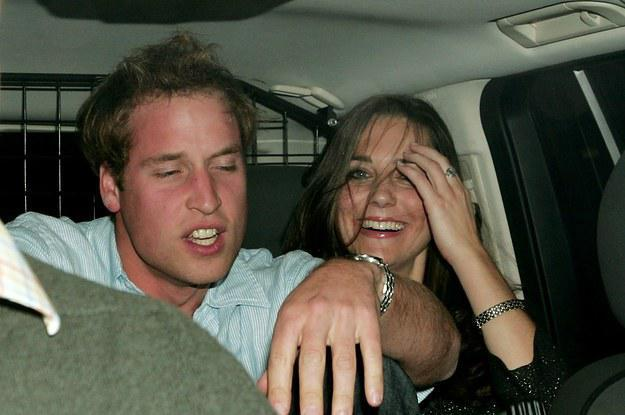Drunk: (136, 98, 245, 279), (339, 122, 427, 259)
